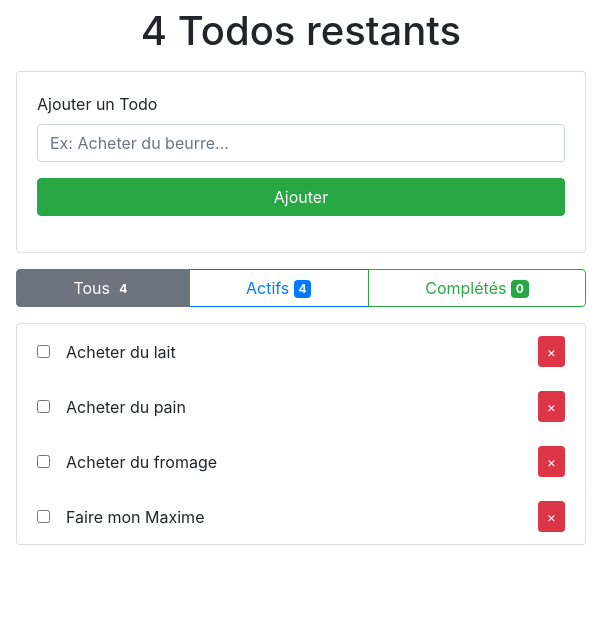
it: Validation du formulaire › affiche un message d'alerte si on soumet un champ vide
The image size is (603, 628).
Step 1. Click the button "Ajouter" → x=301, y=197, box [37,178,565,216]
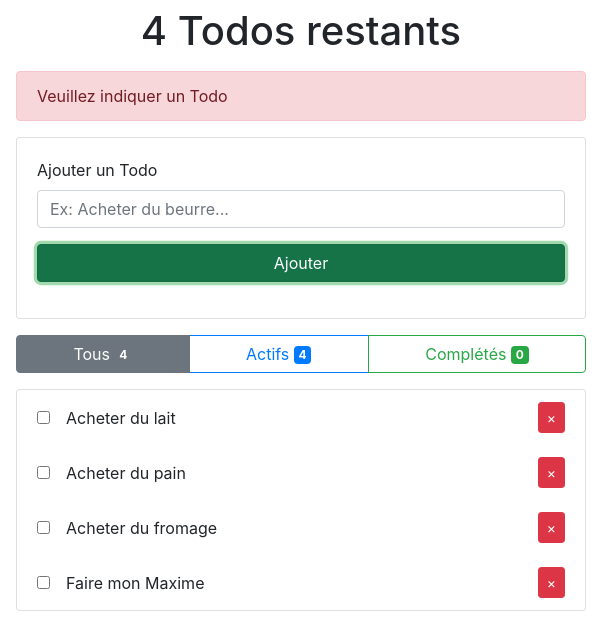
Expected: the text "Veuillez indiquer un Todo" is shown, [16,71,586,121]
